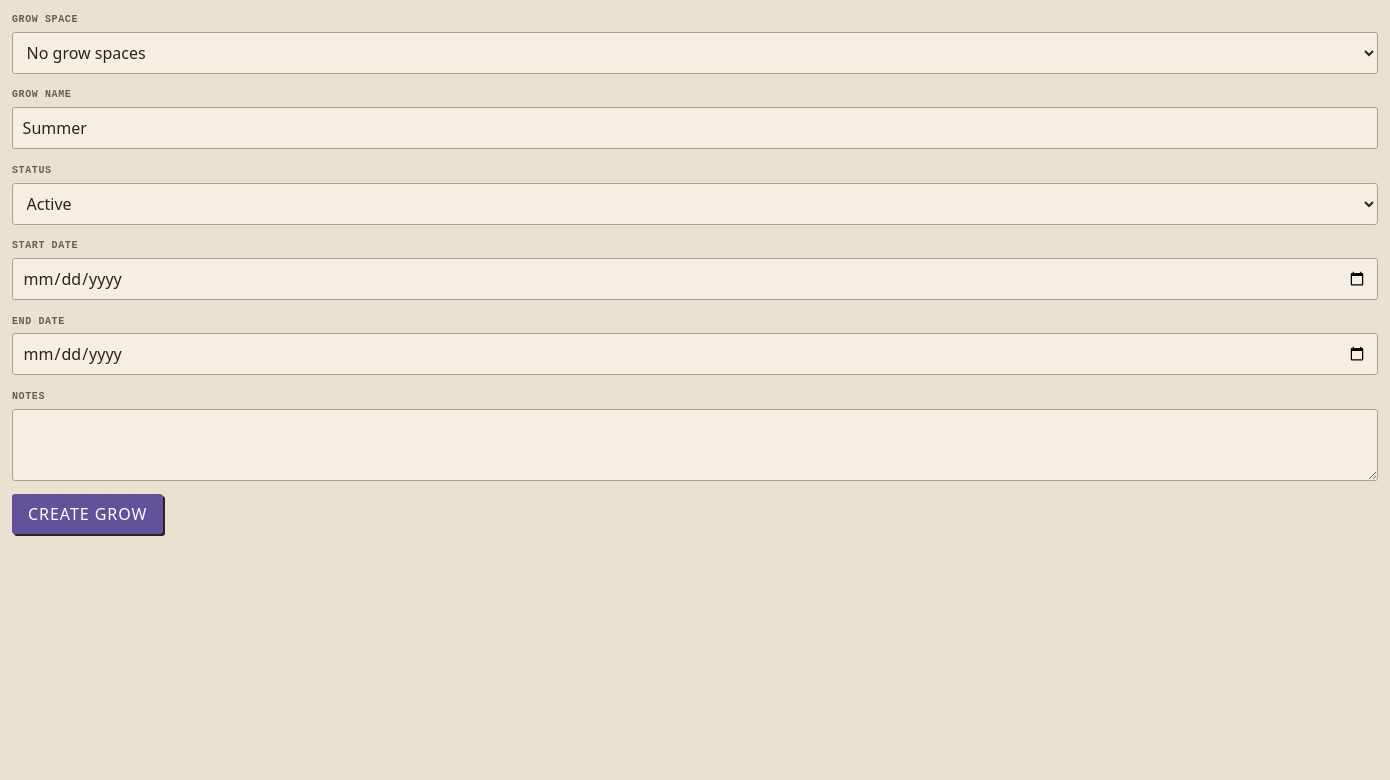
Test: GrowForm › requires a start date for an active grow
Click the button "Create grow" at (88, 514), box [12,494,163,534]
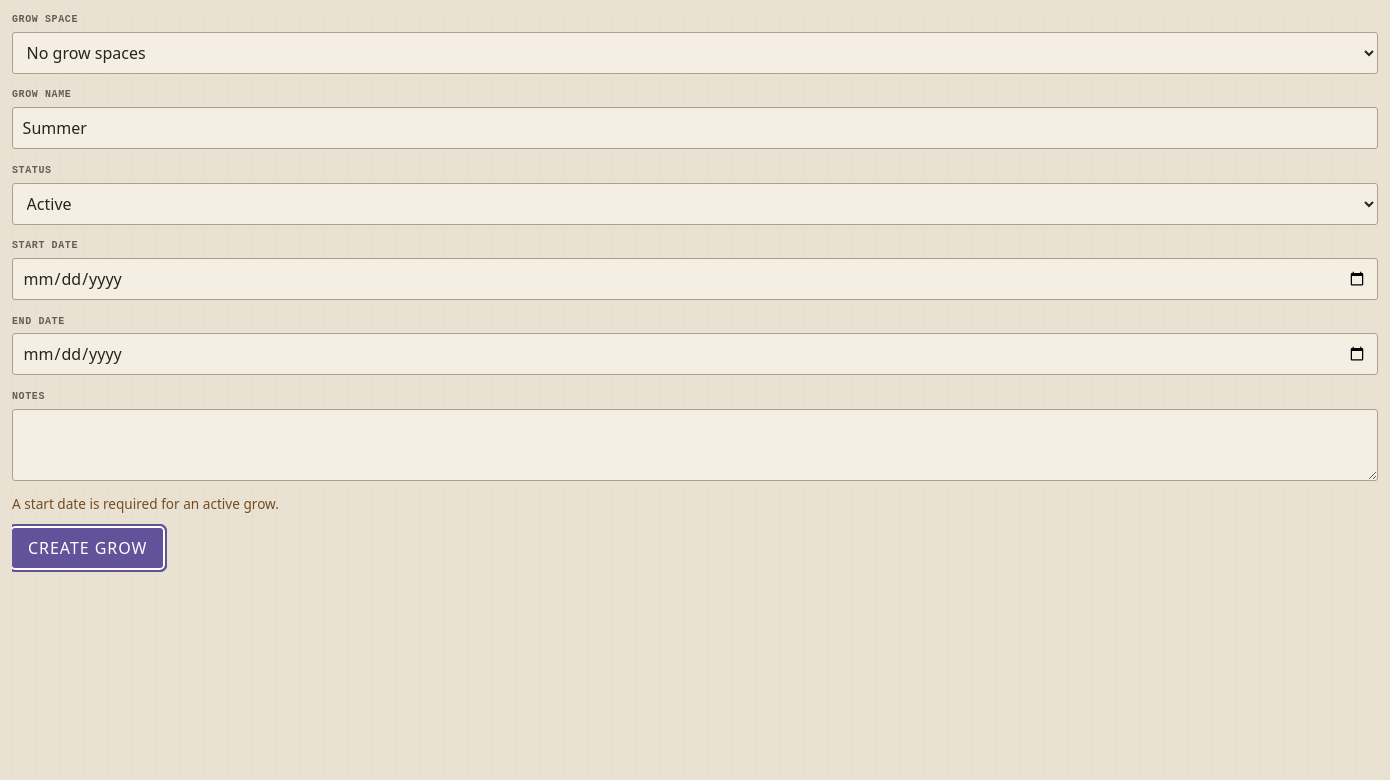
Now the message shows "start date is required", box [12,494,279,513]
